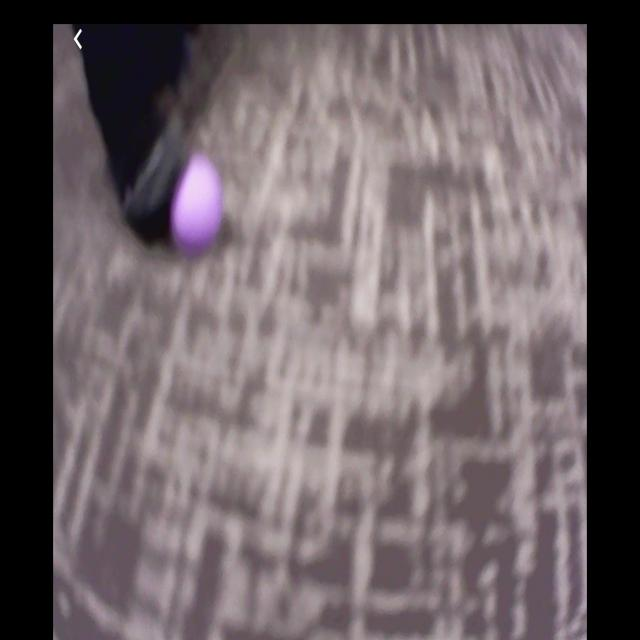ball: (170, 152, 225, 257)
